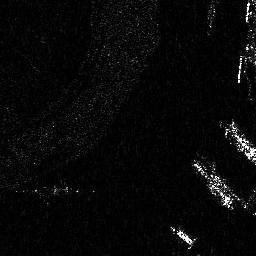ship: (191, 158, 234, 211), (170, 224, 193, 246), (205, 3, 216, 37)
